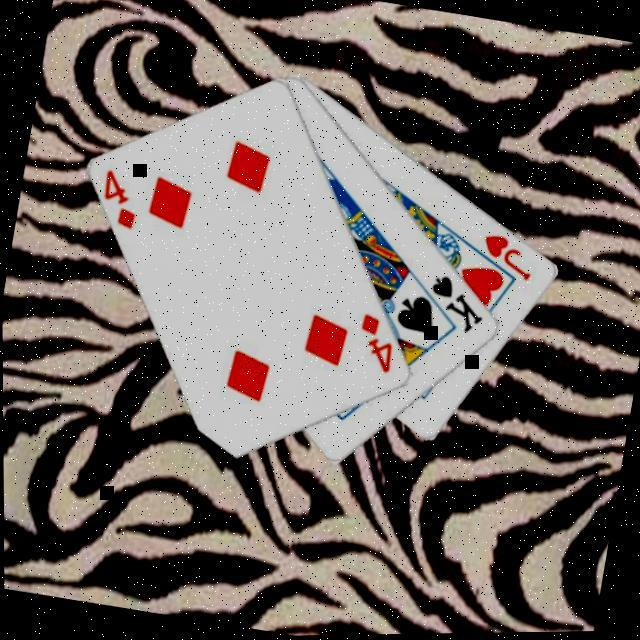4D: (94, 166, 147, 237), (350, 310, 402, 380)
JH: (476, 230, 540, 287)
KS: (422, 272, 492, 341)
